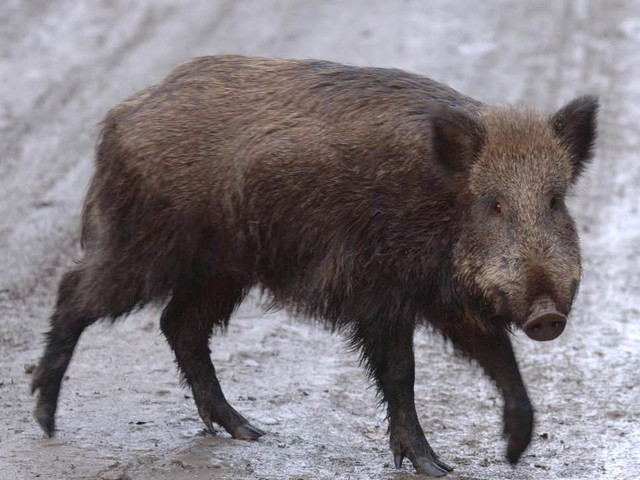Pig: (29, 40, 604, 475)
